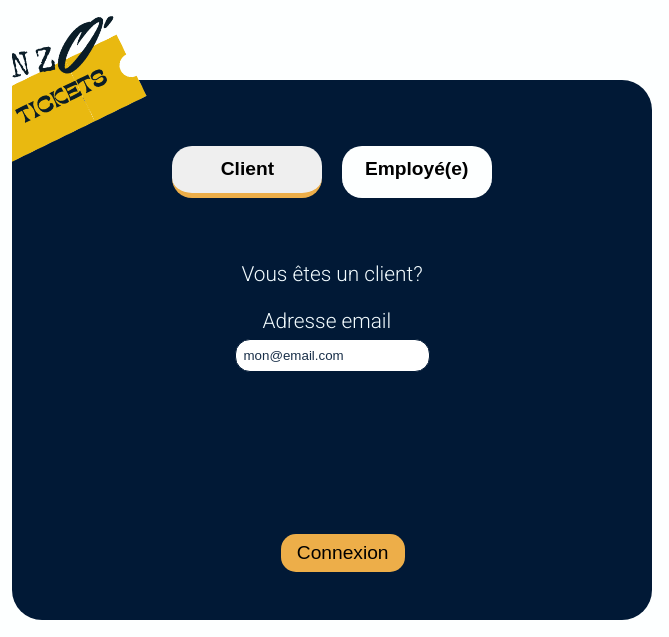
Test: <Connection /> › is an employee
Click the button "Employé(e)" at (417, 172), box [342,146,492,198]
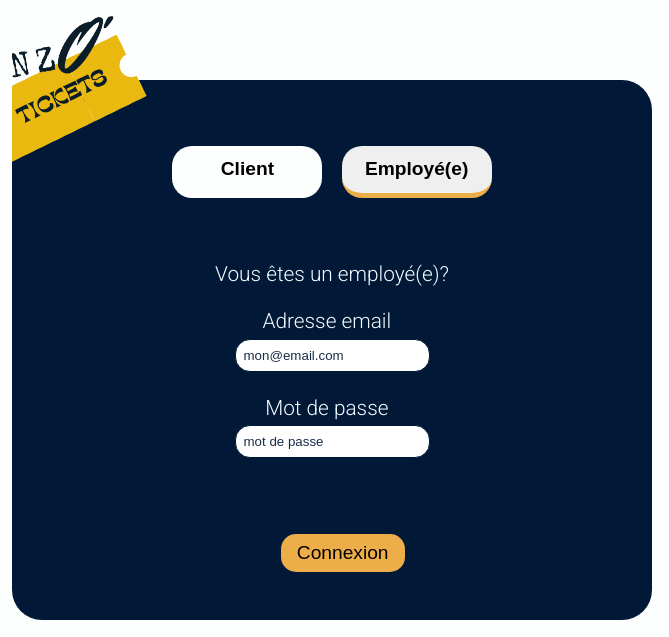
Expected: the text "Vous êtes un employé(e)?" is shown, [215,264,449,285]
Expected: the text labelled "Vous êtes un client?" is gone
Expected: the password field labelled "Mot de passe" is shown, [234,425,430,458]
